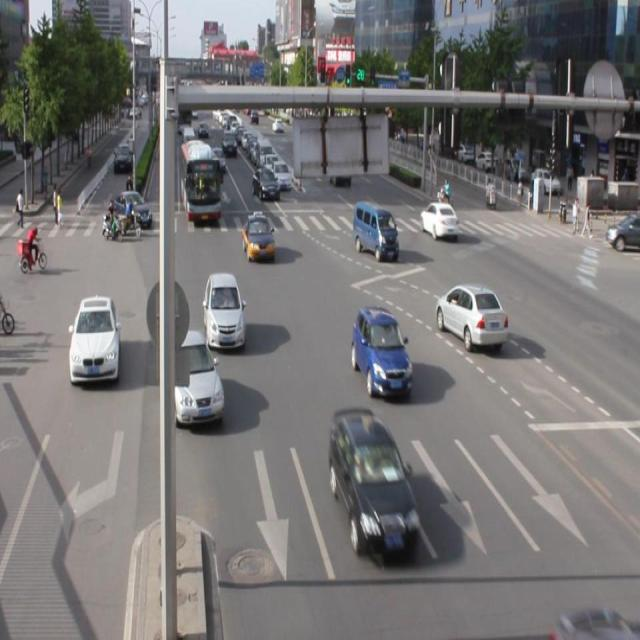car: (329, 408, 419, 558), (165, 328, 224, 425), (352, 306, 413, 397), (435, 281, 507, 348), (68, 293, 120, 385), (203, 272, 246, 350), (242, 214, 275, 264), (419, 201, 458, 238)
truck: (354, 201, 399, 261)
